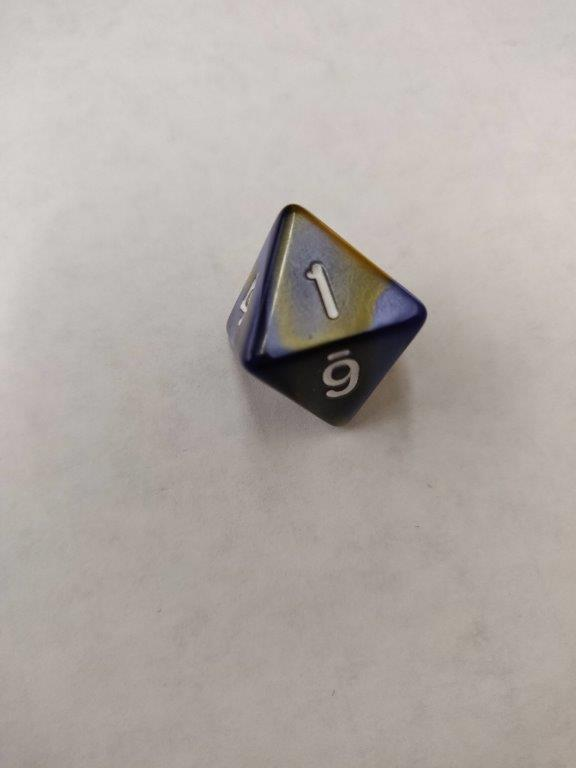d8-1: (223, 197, 429, 430)
